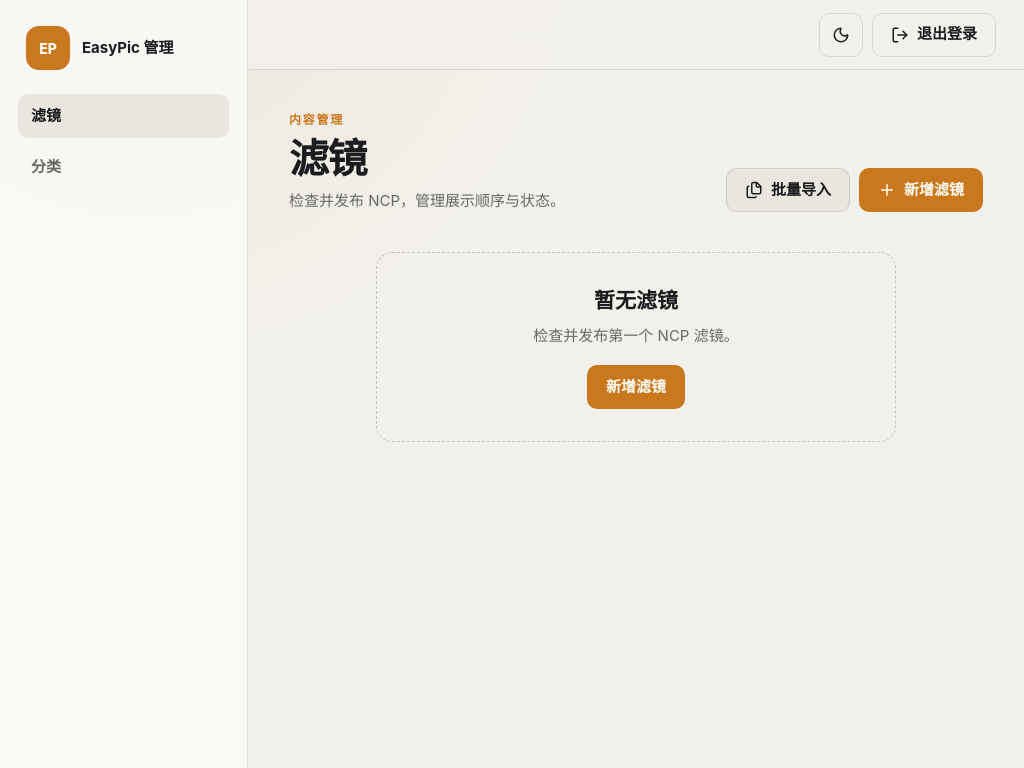
Test: admin application routing › shows only the expiry notice when logout reports unauthorized before rejecting
Click the button "退出登录" at {"x": 934, "y": 34}, box [872,12,996,56]
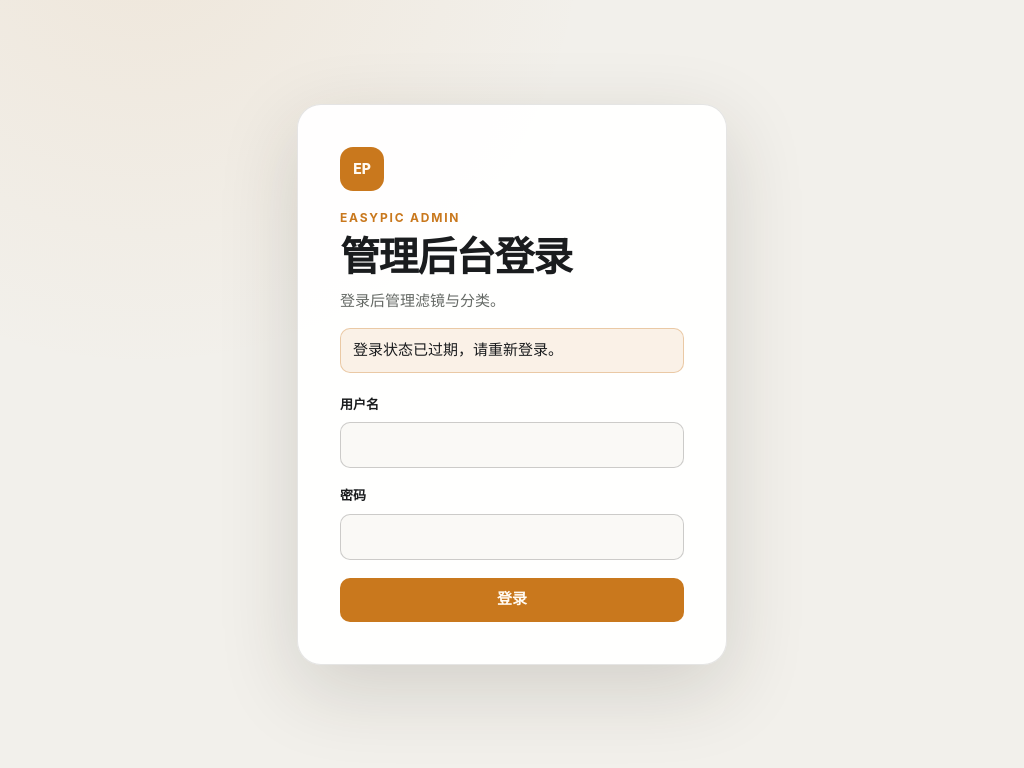
Expected: the heading "管理后台登录" is shown, [340,232,572,280]
Expected: the message named "会话状态" shows "登录状态已过期，请重新登录", [353,340,563,359]
